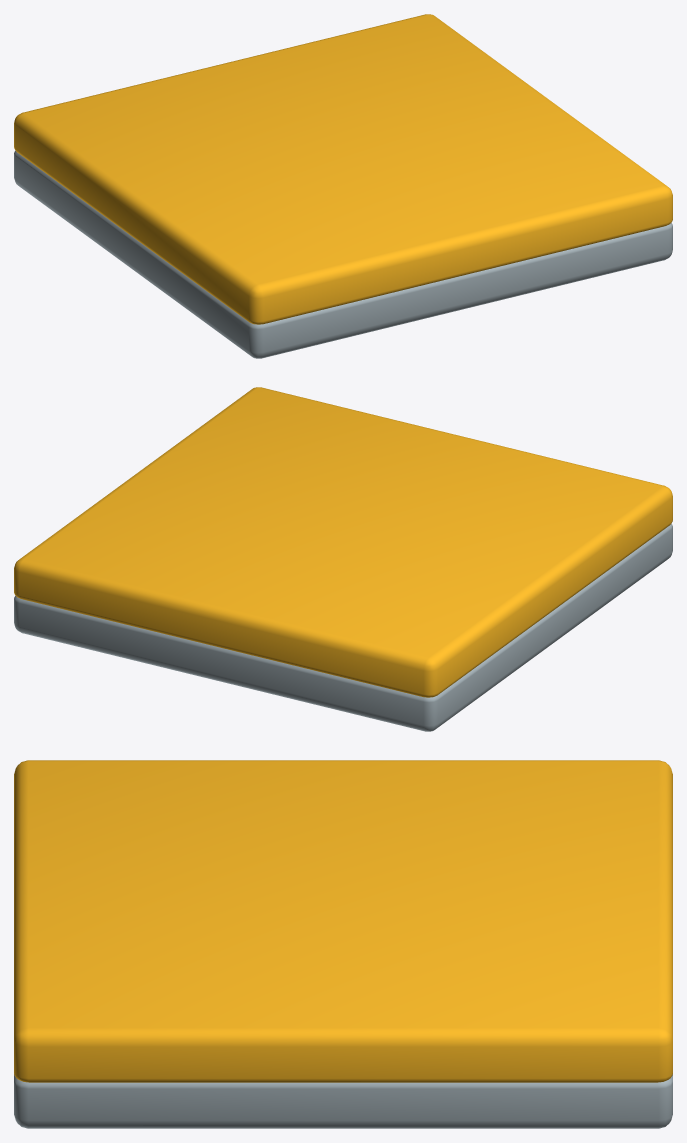
The model's file is tileLarge_teamYellow-col.glb.
3 renders of one model, top to bottom at view 1: azimuth 30°, elevation 25°; view 2: azimuth 150°, elevation 25°; view 3: azimuth 270°, elevation 25°, orthographic. The views are drawn at different scales.
Parts seen in each view (by area): view 1: tileLarge_teamYellow-col; view 2: tileLarge_teamYellow-col; view 3: tileLarge_teamYellow-col.
Part boxes in pixels (left/top/right/bottom): tileLarge_teamYellow-col: left=14, top=14, right=672, bottom=358; tileLarge_teamYellow-col: left=14, top=387, right=672, bottom=731; tileLarge_teamYellow-col: left=14, top=760, right=672, bottom=1128.
Bounding box in the file's own units: 6 × 1 × 6.
